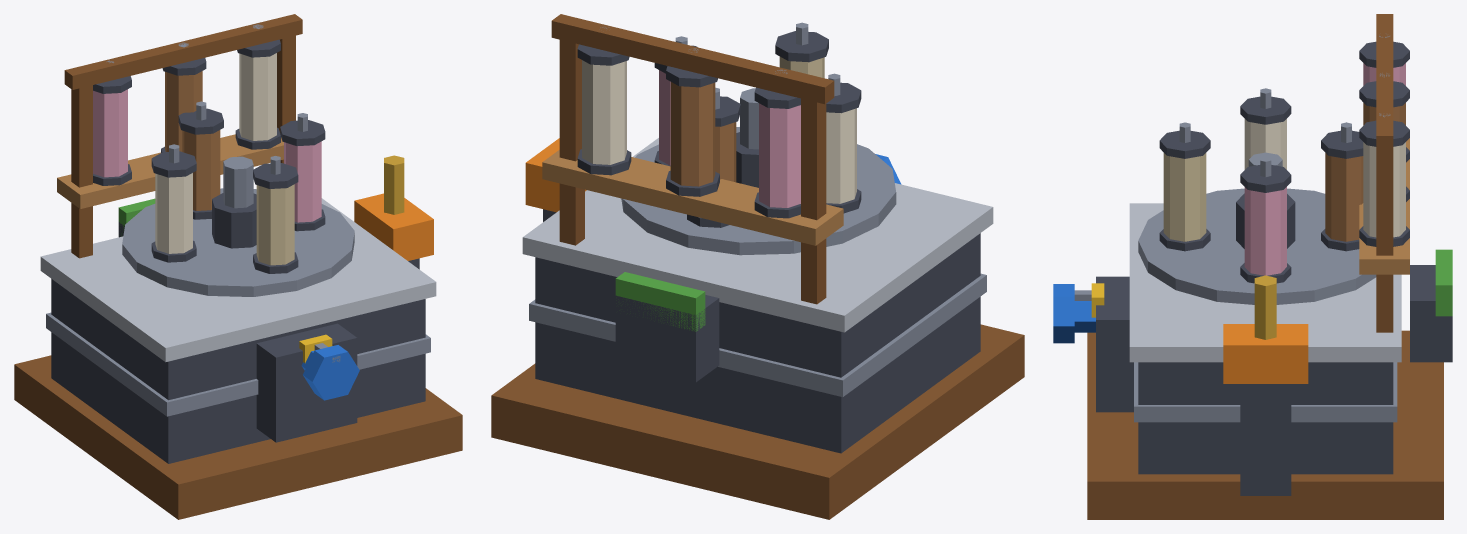
File: spinner-right.glb
3 views of the same model, side by side, from view 1: azimuth 30°, elevation 25°; view 2: azimuth 150°, elevation 25°; view 3: azimuth 270°, elevation 25° (orthographic). The views are drawn at different scales.
Visible parts, largest first — view 1: spinner-right, spin-up, spin-y; view 2: spinner-right, spin-up; view 3: spinner-right, spin-up, spin-y.
Part boxes in pixels (box(x1,y1,x2,y2)): spinner-right: box(14, 14, 462, 519); spin-up: box(122, 101, 354, 296); spin-y: box(301, 343, 359, 400); spinner-right: box(491, 14, 1024, 519); spin-up: box(621, 22, 896, 255); spinner-right: box(1087, 14, 1452, 519); spin-up: box(1138, 88, 1376, 304); spin-y: box(1053, 284, 1095, 343).
Size of the model in its own units: 0.94 by 0.96 by 0.94.
Materials: 3 (3 with a texture image).
